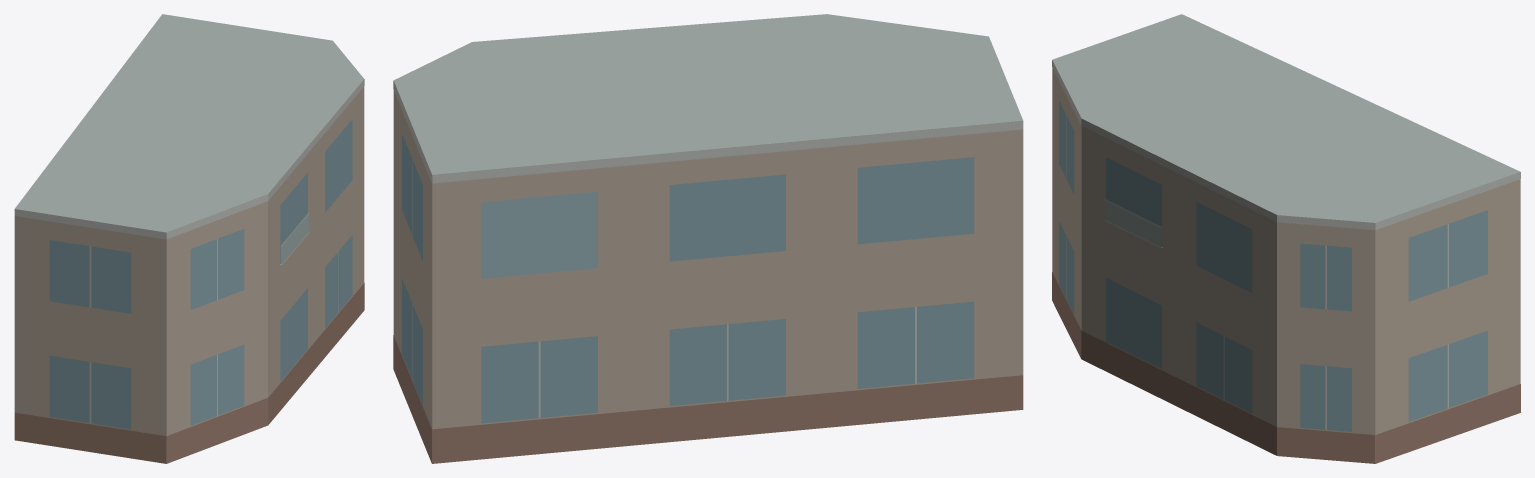
Rendered from survey-upis-32673068.glb.
3 renders of one model, left to right at view 1: azimuth 30°, elevation 25°; view 2: azimuth 150°, elevation 25°; view 3: azimuth 270°, elevation 25°, orthographic. The views are drawn at different scales.
Parts seen in each view (by area): view 1: survey-upis-32673068.tmp; view 2: survey-upis-32673068.tmp; view 3: survey-upis-32673068.tmp.
Part boxes in pixels (x1,y1,x2,y2): survey-upis-32673068.tmp: (14, 14, 364, 463); survey-upis-32673068.tmp: (393, 14, 1023, 463); survey-upis-32673068.tmp: (1052, 14, 1520, 463).
Bounding box in the file's own units: 15.08 × 8.1 × 14.29.
